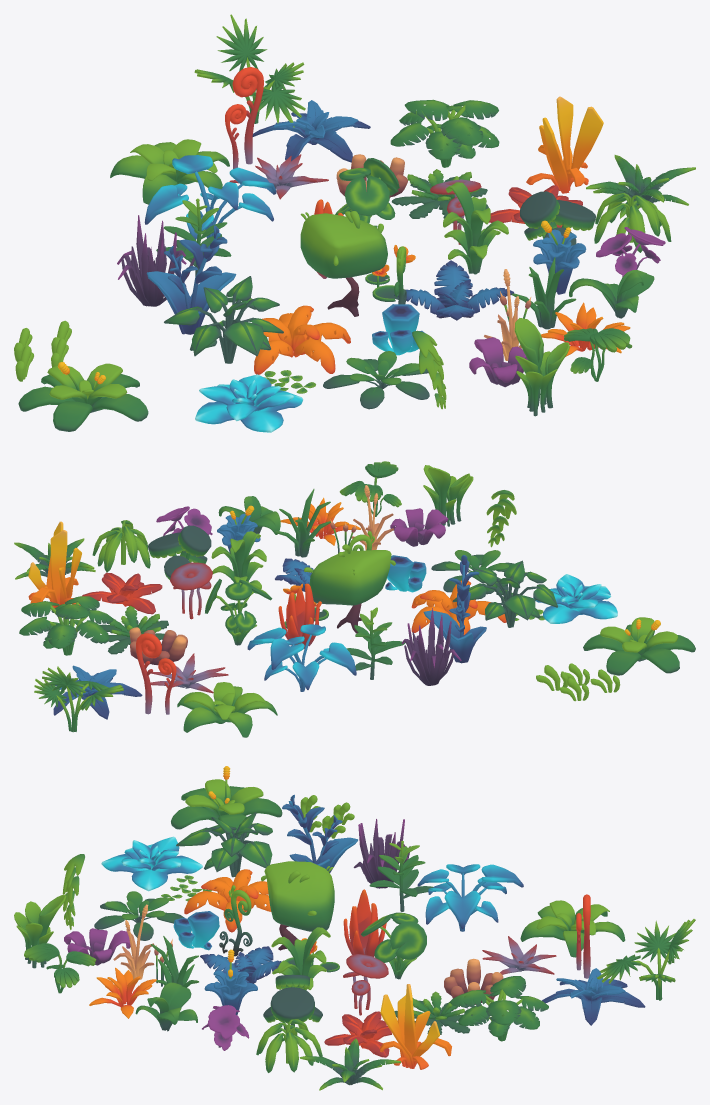
3 views of the same model, one above another, from view 1: azimuth 30°, elevation 25°; view 2: azimuth 150°, elevation 25°; view 3: azimuth 270°, elevation 25° (orthographic). The views are drawn at different scales.
Visible parts, largest first — view 1: Plant.011, Plant.003, Plant.050, Plant.054, Plant.012, Plant.033, Plant.028, Plant.053, Plant.055, Plant.049, Plant.005, Plant.006 (+28 smaller); view 2: Plant.011, Plant.003, Plant.050, Plant.054, Plant.033, Plant.028, Plant.012, Plant.053, Plant, Plant.055, Plant.049, Plant.034 (+29 smaller); view 3: Plant.011, Plant.050, Plant.003, Plant.033, Plant.054, Plant.012, Plant.053, Plant.028, Plant.049, Plant.045, Plant.005, Plant.043 (+28 smaller).
Part boxes in pixels (x1,y1,x2,y2): Plant.011: (300, 211, 387, 316); Plant.003: (18, 363, 148, 431); Plant.050: (390, 99, 499, 167); Plant.054: (164, 276, 283, 363); Plant.012: (195, 374, 303, 432); Plant.033: (144, 155, 276, 239); Plant.028: (110, 139, 229, 204); Plant.053: (526, 96, 603, 193); Plant.055: (146, 225, 236, 334); Plant.049: (194, 14, 305, 127); Plant.005: (254, 305, 350, 374); Plant.006: (394, 260, 514, 320); Plant.011: (304, 544, 395, 633); Plant.003: (583, 617, 695, 675); Plant.050: (19, 596, 113, 655); Plant.054: (452, 560, 557, 627); Plant.033: (247, 624, 356, 691); Plant.028: (177, 682, 277, 737); Plant.012: (533, 574, 617, 623); Plant.053: (28, 521, 81, 608); Plant: (401, 608, 461, 685); Plant.055: (423, 555, 486, 663); Plant.049: (34, 666, 123, 732); Plant.034: (148, 525, 211, 579); Plant.011: (261, 861, 334, 950); Plant.050: (449, 976, 548, 1041); Plant.003: (171, 779, 282, 839); Plant.033: (417, 864, 523, 931); Plant.054: (176, 812, 272, 877); Plant.012: (101, 836, 202, 891); Plant.053: (379, 984, 451, 1069); Plant.028: (520, 900, 625, 957); Plant.049: (597, 919, 695, 1000); Plant.045: (361, 912, 426, 979); Plant.005: (184, 869, 271, 932); Plant.043: (542, 968, 645, 1025).
Size of the model in its own units: 69.99 by 10.92 by 66.14.
1 material, 1 textured.
